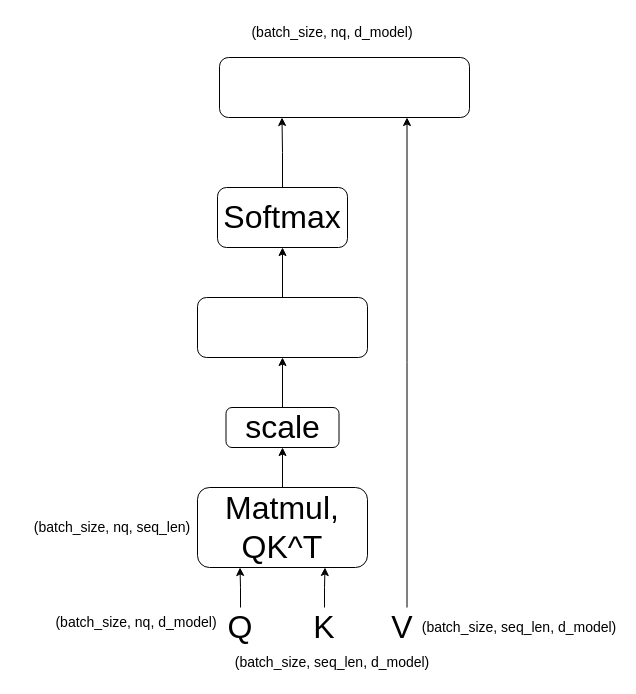
Image size: 636x694. Some labels were removed from this diagram. Each missing label, with the box of its shape:
mask (opt.): (196, 296, 368, 358)
Matmul: (218, 56, 470, 118)
